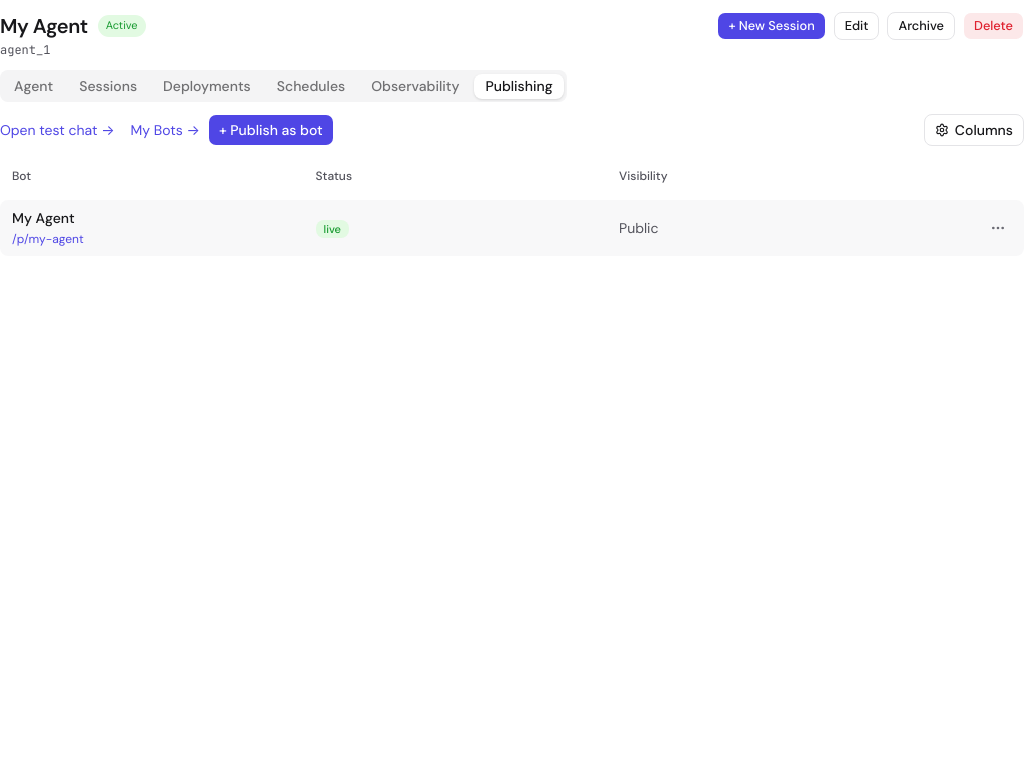
Test: <AgentPublishingTab /> › shows an inline slug error on a 409 conflict while editing and keeps the dialog open
Expected: the text "live" is shown, [316,220,349,238]
Click the button named "Actions for My Agent".
click(998, 228)  # box [984,214,1012,242]
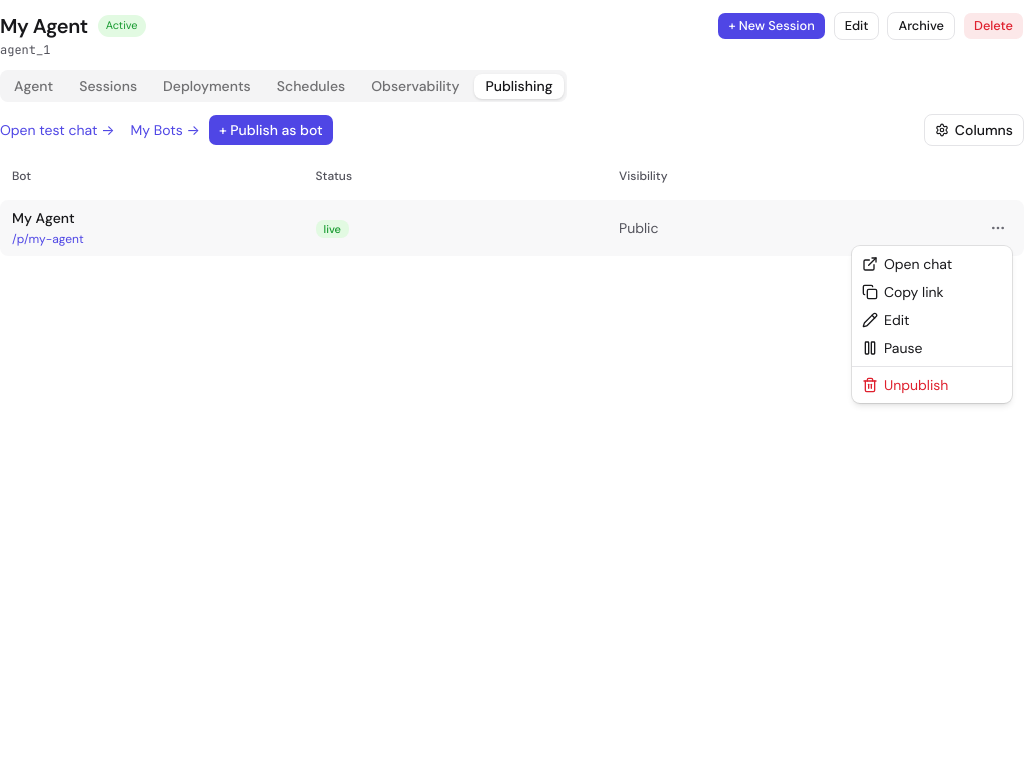
Click the menu item "Edit".
click(886, 320)  # box [862,311,910,329]
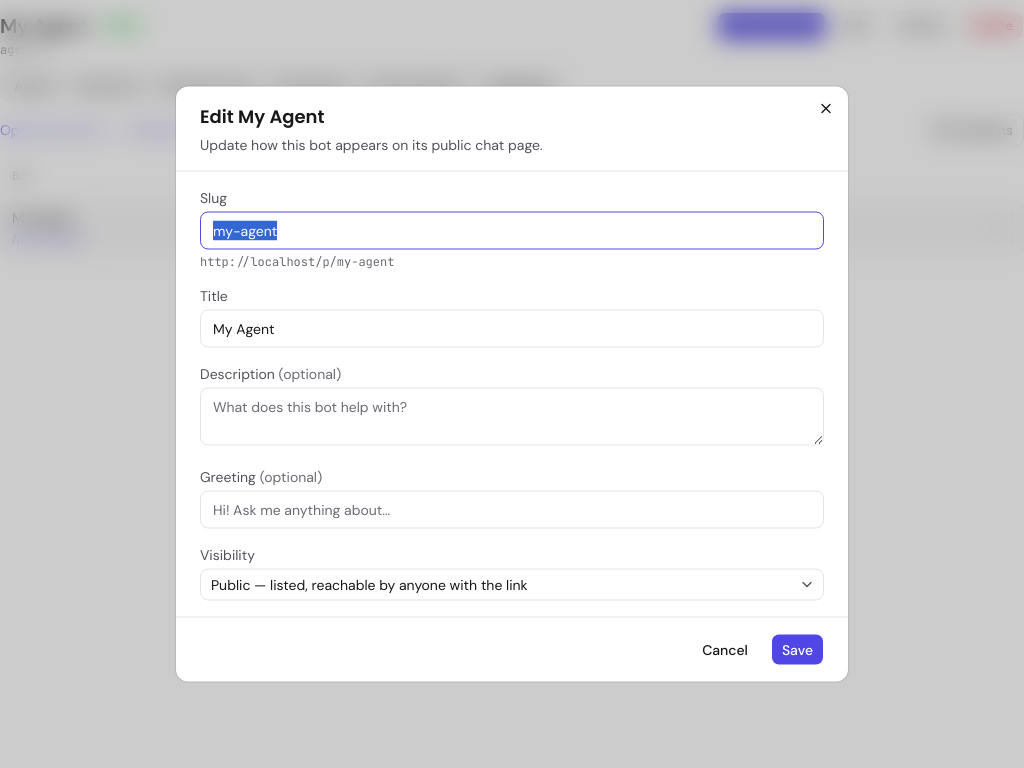
Expected: the heading "Edit My Agent" is shown, [200,104,324,128]
Click the button "Save".
click(797, 650)  # box [771,634,824,666]
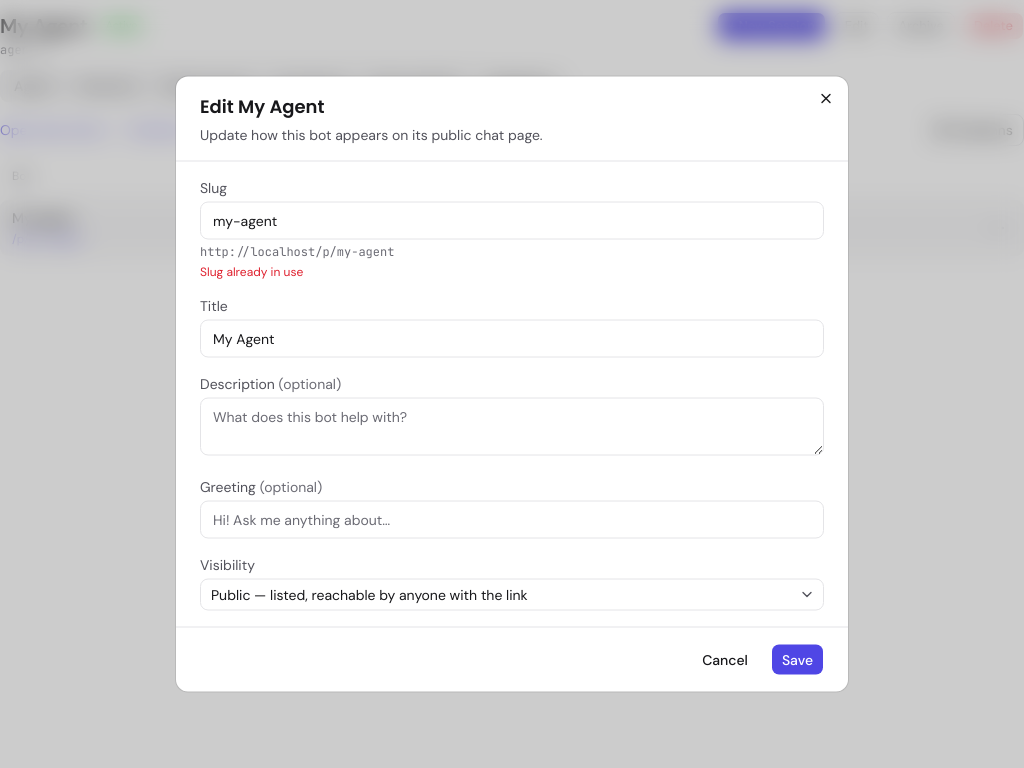
Expected: the heading "Edit My Agent" is shown, [200,94,324,118]
Expected: the text "Slug already in use" is shown, [200,264,303,280]
